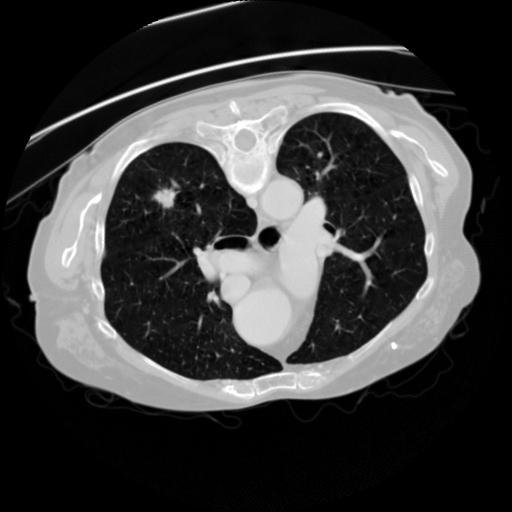nodule: (150, 185, 179, 214)
